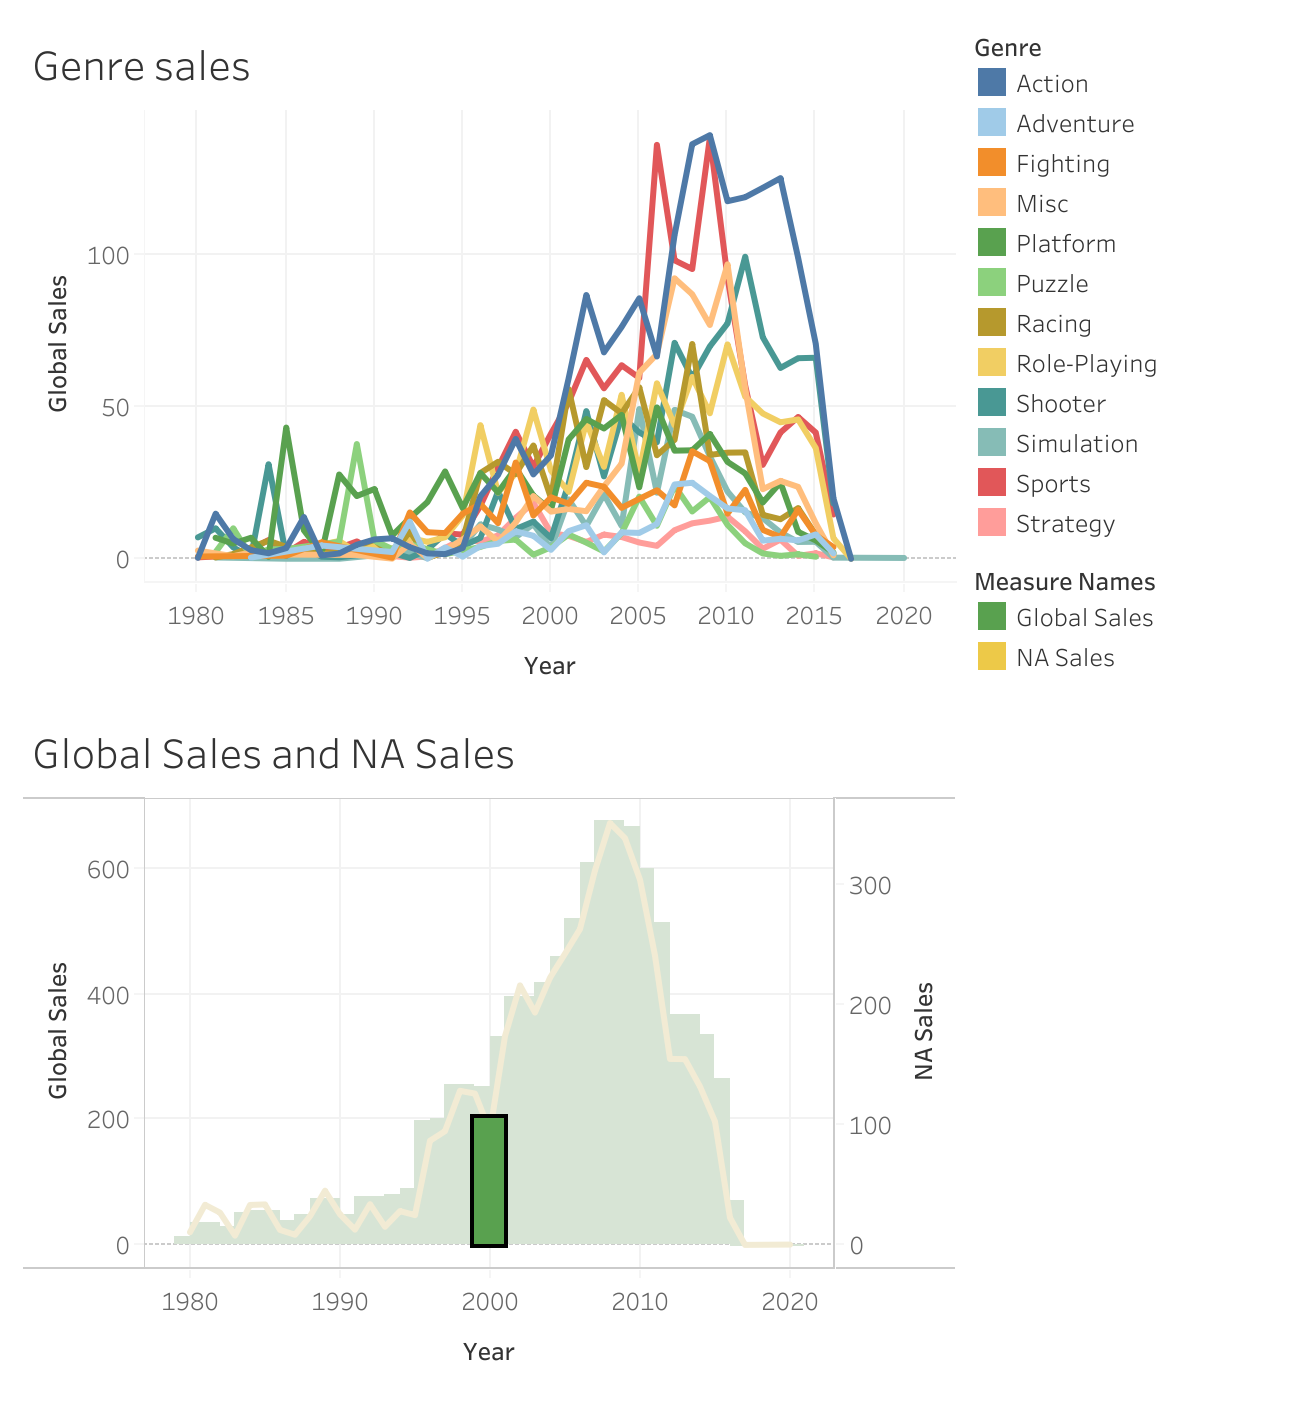

What the dashboard file says about the page in this screenshot:
{"tool":"tableau","page":{"name":"Dashboard 2","canvas":[650,860],"ordinal":1},"visuals":[{"type":"worksheet","title":"Sheet 3","mark":"Automatic","rows":["Global_Sales"],"cols":["Year"],"box":[8,10,474,420]},{"type":"legend","title":"Sheet 3","param":"[federated.1jv27fv0omtk5i15jabdr0f7z1k4].[none:Genre:nk]","box":[482,10,160,333.5]},{"type":"legend","title":"Sheet 4","param":"[federated.1jv27fv0omtk5i15jabdr0f7z1k4].[:Measure Names]","box":[482,343.5,160,82.7]},{"type":"worksheet","title":"Sheet 4","mark":"Automatic","rows":["Global_Sales","NA_Sales"],"cols":["Year"],"box":[8,430,474,420]}]}

Visuals, with their boxes on the page's 650x860 design canvas (x1, y1, x2, y2). These are canvas units, not pixel positions in the 1298x1406 screenshot, which may show the page scaled, cropped or inside an application window:
"Sheet 3" worksheet: pyautogui.locateOnScreen(8, 10, 482, 430)
"Sheet 3" legend: pyautogui.locateOnScreen(482, 10, 642, 344)
"Sheet 4" legend: pyautogui.locateOnScreen(482, 344, 642, 426)
"Sheet 4" worksheet: pyautogui.locateOnScreen(8, 430, 482, 850)
